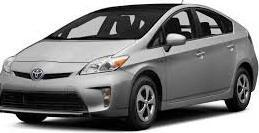Cars: (1, 6, 259, 131)
